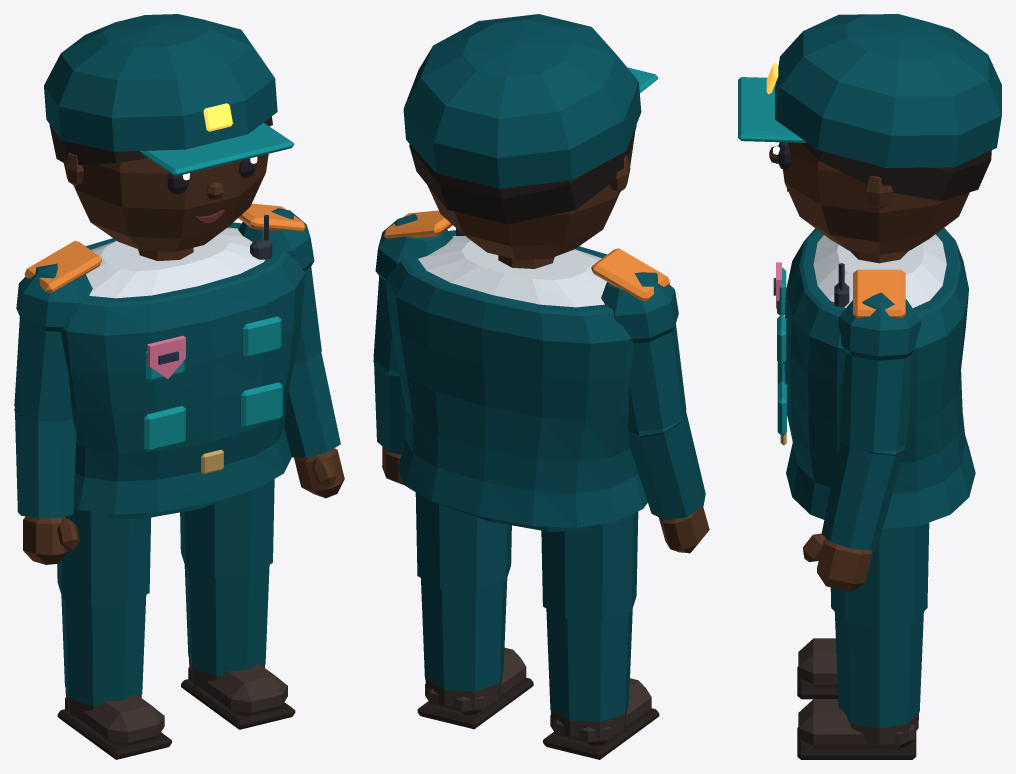
Rendered from sic_cor.glb.
3 views of the same model, side by side, from view 1: azimuth 30°, elevation 25°; view 2: azimuth 150°, elevation 25°; view 3: azimuth 270°, elevation 25° (orthographic).
Visible parts, largest first — view 1: jacke, kopfbedeckung, bein_r, bein_l, arm_r, kopf, arm_l, torso, taschen, schuh_r, schuh_l, schulterklappen (+6 smaller); view 2: jacke, kopfbedeckung, bein_r, bein_l, arm_r, torso, haare, kopf, arm_l, schuh_l, schuh_r, schulterklappen (+1 smaller); view 3: kopfbedeckung, jacke, arm_l, bein_l, kopf, schuh_l, torso, haare, hand_l, schuh_r, schulterklappen, taschen (+2 smaller).
Part boxes in pixels (x1=…): jacke: x1=61, y1=222, x2=305, y2=514; kopfbedeckung: x1=44, y1=14, x2=294, y2=176; bein_r: x1=57, y1=507, x2=151, y2=706; bein_l: x1=180, y1=479, x2=274, y2=676; arm_r: x1=14, y1=263, x2=92, y2=517; kopf: x1=63, y1=152, x2=268, y2=251; arm_l: x1=238, y1=208, x2=340, y2=457; torso: x1=86, y1=227, x2=264, y2=298; taschen: x1=143, y1=316, x2=282, y2=451; schuh_r: x1=57, y1=689, x2=171, y2=759; schuh_l: x1=181, y1=659, x2=295, y2=729; schulterklappen: x1=24, y1=203, x2=305, y2=292; jacke: x1=385, y1=230, x2=647, y2=527; kopfbedeckung: x1=403, y1=14, x2=658, y2=188; bein_r: x1=541, y1=511, x2=638, y2=721; bein_l: x1=415, y1=492, x2=511, y2=691; arm_r: x1=601, y1=272, x2=705, y2=520; torso: x1=418, y1=235, x2=606, y2=307; haare: x1=409, y1=125, x2=636, y2=224; kopf: x1=428, y1=133, x2=634, y2=259; arm_l: x1=373, y1=214, x2=452, y2=454; schuh_l: x1=417, y1=647, x2=533, y2=729; schuh_r: x1=543, y1=678, x2=659, y2=759; schulterklappen: x1=384, y1=210, x2=669, y2=301; kopfbedeckung: x1=738, y1=14, x2=1001, y2=167; jacke: x1=784, y1=228, x2=975, y2=528; arm_l: x1=821, y1=292, x2=921, y2=550; bein_l: x1=830, y1=522, x2=929, y2=728; kopf: x1=783, y1=142, x2=969, y2=254; schuh_l: x1=797, y1=699, x2=919, y2=759; torso: x1=813, y1=234, x2=946, y2=307; haare: x1=801, y1=142, x2=991, y2=201; hand_l: x1=803, y1=533, x2=872, y2=591; schuh_r: x1=797, y1=638, x2=838, y2=699; schulterklappen: x1=853, y1=269, x2=905, y2=318; taschen: x1=777, y1=267, x2=786, y2=435.
Bounding box in the file's own units: 0.0127 × 0.0259 × 0.00903.
